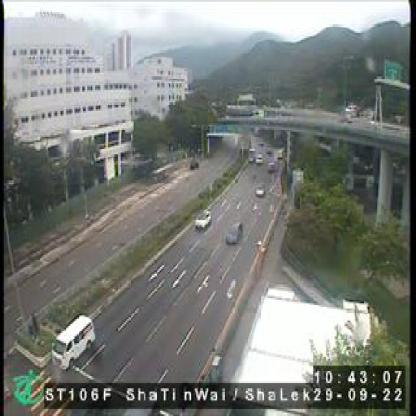Car: (52, 310, 98, 368), (225, 218, 243, 250), (194, 208, 213, 227), (252, 182, 264, 198), (264, 144, 273, 156), (268, 161, 275, 175), (256, 152, 264, 164)
